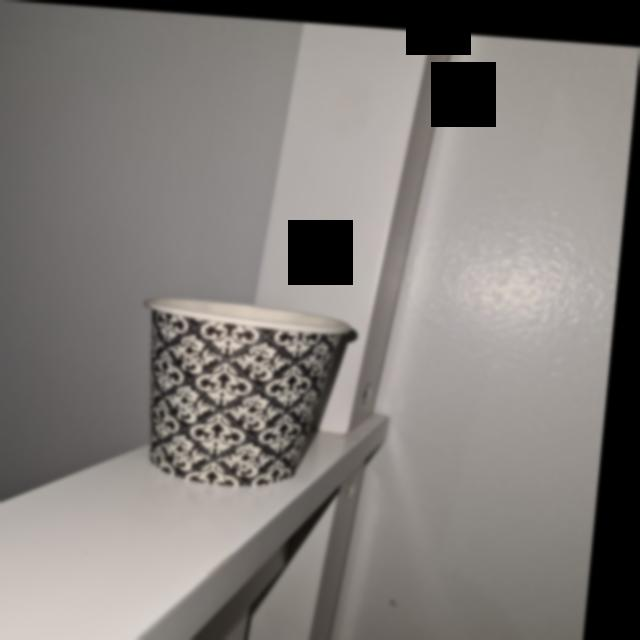cups: (116, 288, 367, 486)
